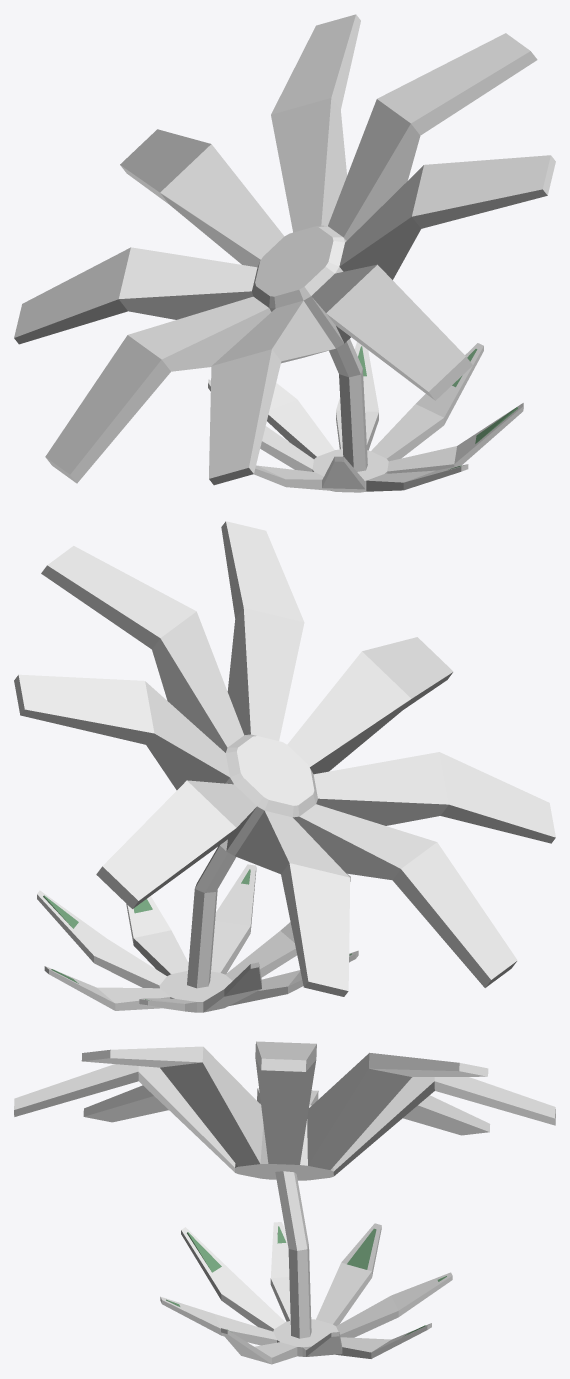
Rendered from resource__flowers__small-flowers-5.fbx.
The picture shows the model from 3 angles, top to bottom: view 1: azimuth 30°, elevation 25°; view 2: azimuth 150°, elevation 25°; view 3: azimuth 270°, elevation 25°; orthographic projection. The views are drawn at different scales.
Parts seen in each view (by area): view 1: Small_Flowers_5; view 2: Small_Flowers_5; view 3: Small_Flowers_5.
Part boxes in pixels (x1=…): Small_Flowers_5: x1=14, y1=14, x2=555, y2=492; Small_Flowers_5: x1=14, y1=521, x2=555, y2=1012; Small_Flowers_5: x1=14, y1=1041, x2=555, y2=1364.
Size of the model in its own units: 203 by 173 by 239.
